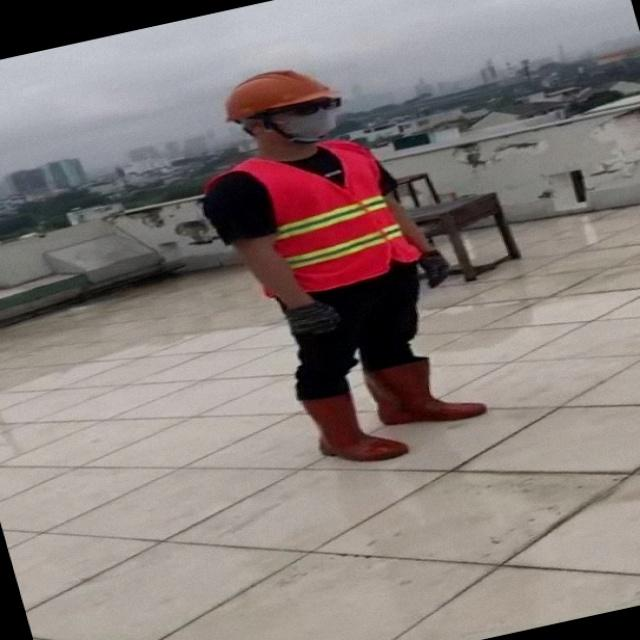Capacete: (226, 70, 338, 121)
Colete: (232, 140, 419, 292)
Oculos: (278, 98, 341, 115)
